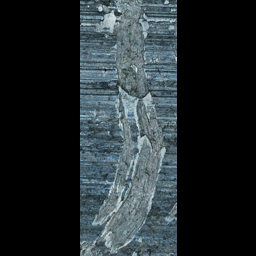d: (109, 111, 167, 214), (111, 47, 161, 128), (82, 194, 145, 254), (88, 0, 155, 46), (160, 0, 176, 32)
